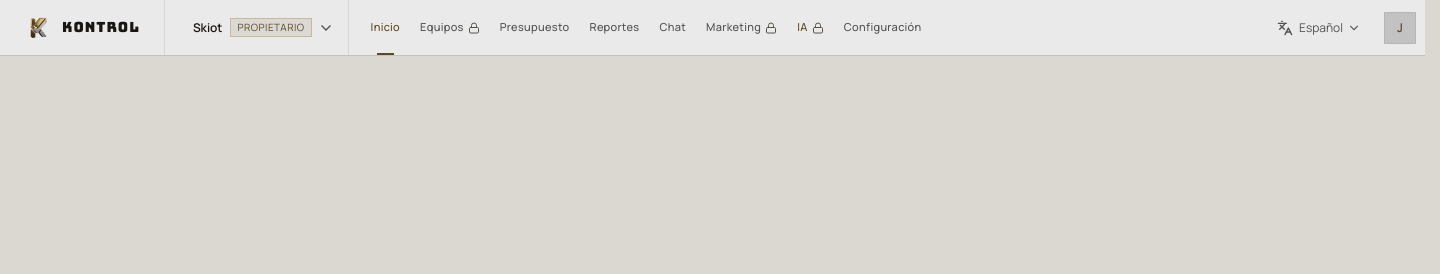
Test: AppNavbar.vue — selector de empresa › seleccionar una empresa la activa y cierra el dropdown
What coordinates should you click on to do the following:
click the element with class "empresa-selector"
I would click on:
 (263, 28)
Its box is [177, 0, 349, 55].
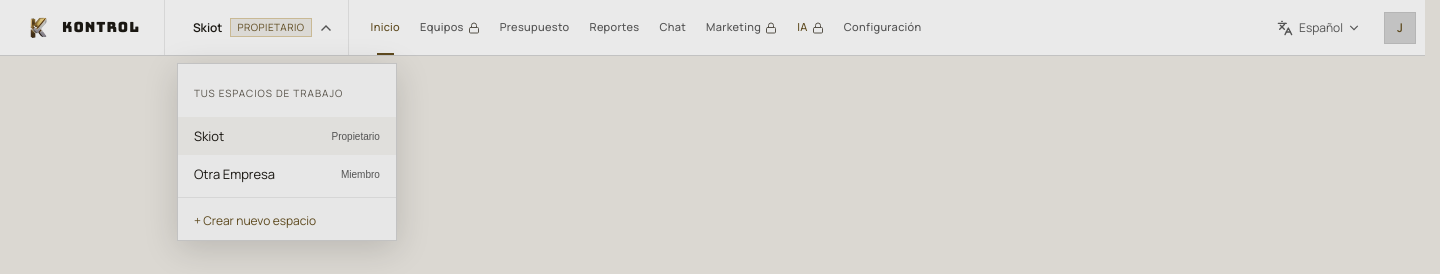
What coordinates should you click on to do the following:
click the button with class "dd-item" showing "Otra Empresa Miembro"
I would click on:
 (287, 174)
Its box is [178, 155, 396, 193].
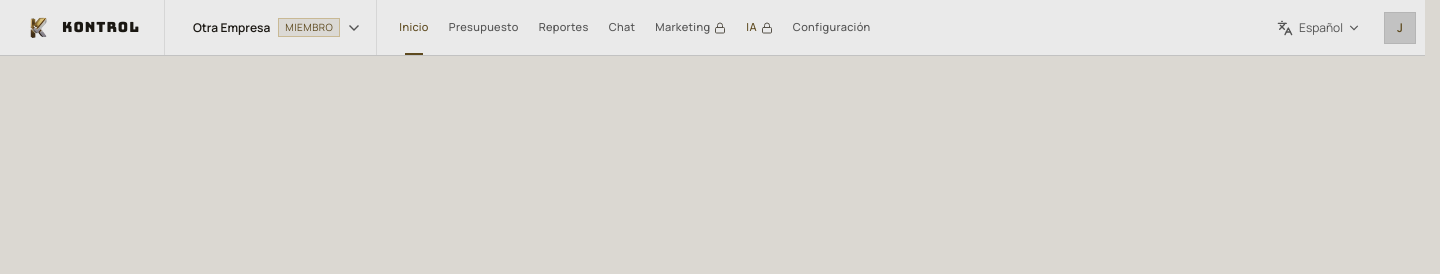
Expected: the element with class "empresa-dropdown" is gone
